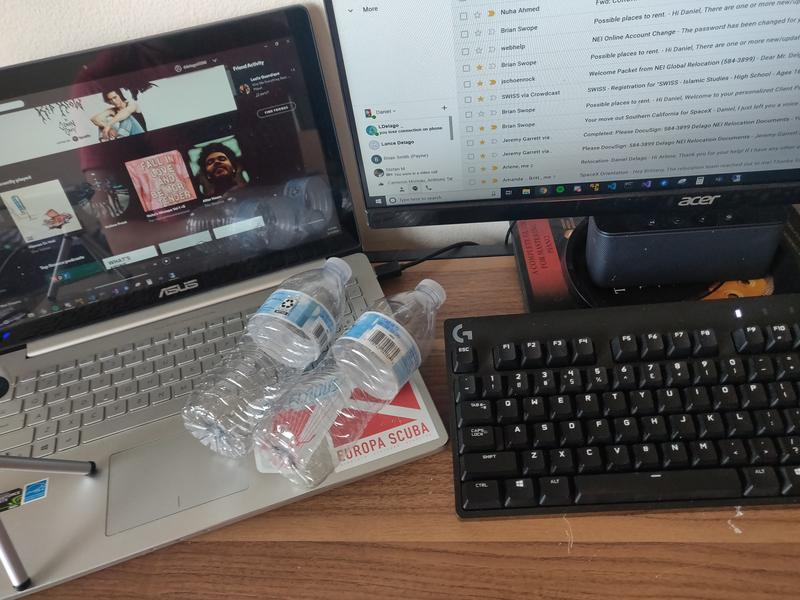bottle: (253, 279, 446, 492), (181, 255, 353, 458)
